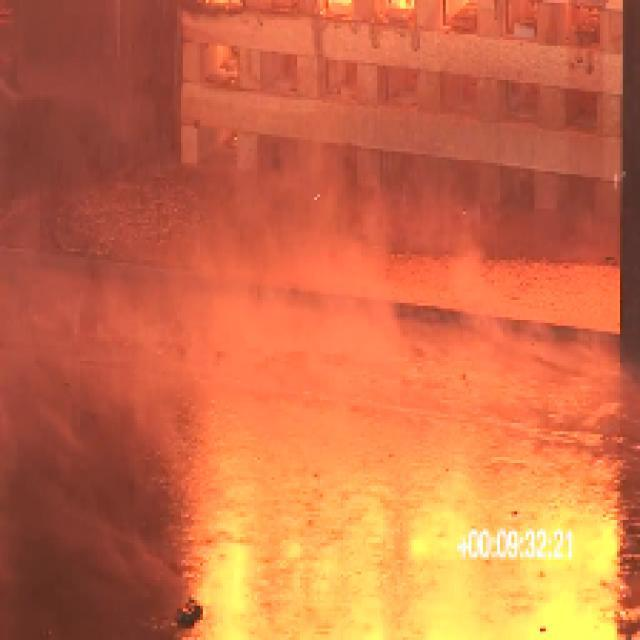Fire: (221, 488, 588, 610)
Smoke: (58, 146, 521, 336)
